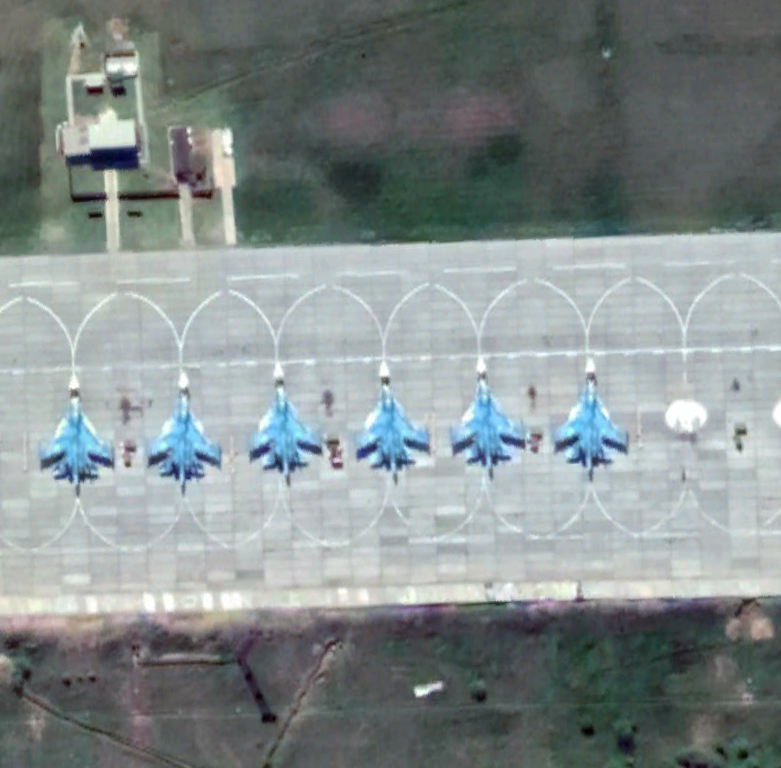A19: (435, 352, 534, 478), (130, 364, 227, 492), (237, 358, 330, 486), (337, 356, 431, 481), (30, 367, 121, 495), (542, 354, 633, 475)
